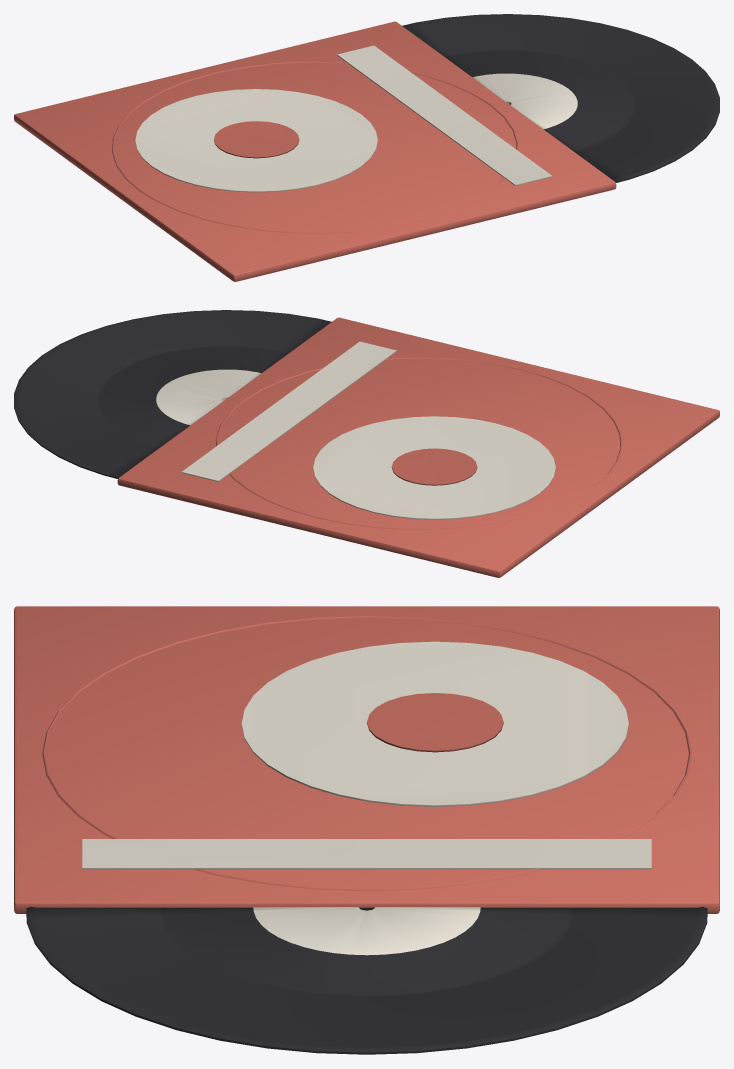
File: junk_vinyl.glb
The picture shows the model from 3 angles, top to bottom: view 1: azimuth 30°, elevation 25°; view 2: azimuth 150°, elevation 25°; view 3: azimuth 270°, elevation 25°; orthographic projection. The views are drawn at different scales.
Visible parts, largest first — view 1: PART; view 2: PART; view 3: PART.
Boxes of the visible parts, x1,y1,x2,y2 form: PART: [14, 14, 719, 281]; PART: [14, 310, 719, 577]; PART: [14, 606, 719, 1054].
Bounding box in the file's own units: 0.46 × 0.0076 × 0.31.
